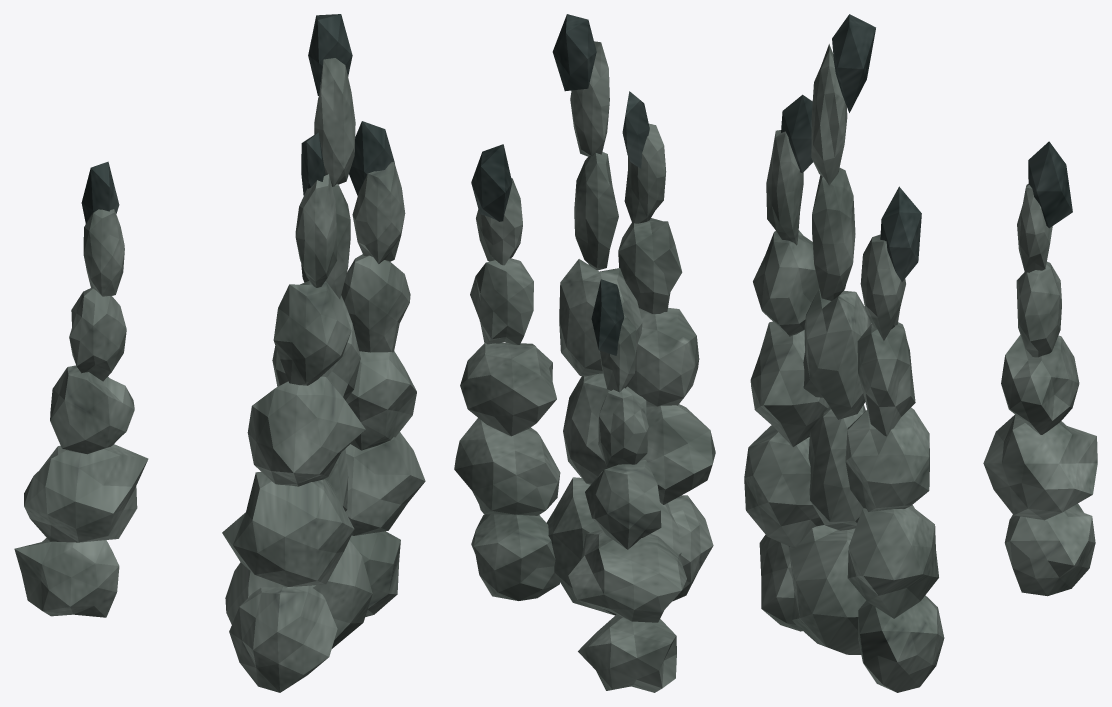
Rendered from 0067_rock_spire_17.glb.
3 renders of one model, left to right at view 1: azimuth 30°, elevation 25°; view 2: azimuth 150°, elevation 25°; view 3: azimuth 270°, elevation 25°, orthographic. The views are drawn at different scales.
Visible parts, largest first — view 1: stone, stone_dark; view 2: stone, stone_dark; view 3: stone, stone_dark.
Part boxes in pixels (x1,y1,x2,y2): stone: (14, 58, 425, 692); stone_dark: (81, 14, 394, 223); stone: (454, 41, 715, 692); stone_dark: (471, 14, 649, 355); stone: (744, 44, 1097, 692); stone_dark: (781, 14, 1072, 281).
Bounding box in the file's own units: 1.87 × 3.52 × 1.74.
2 materials, 2 textured.
